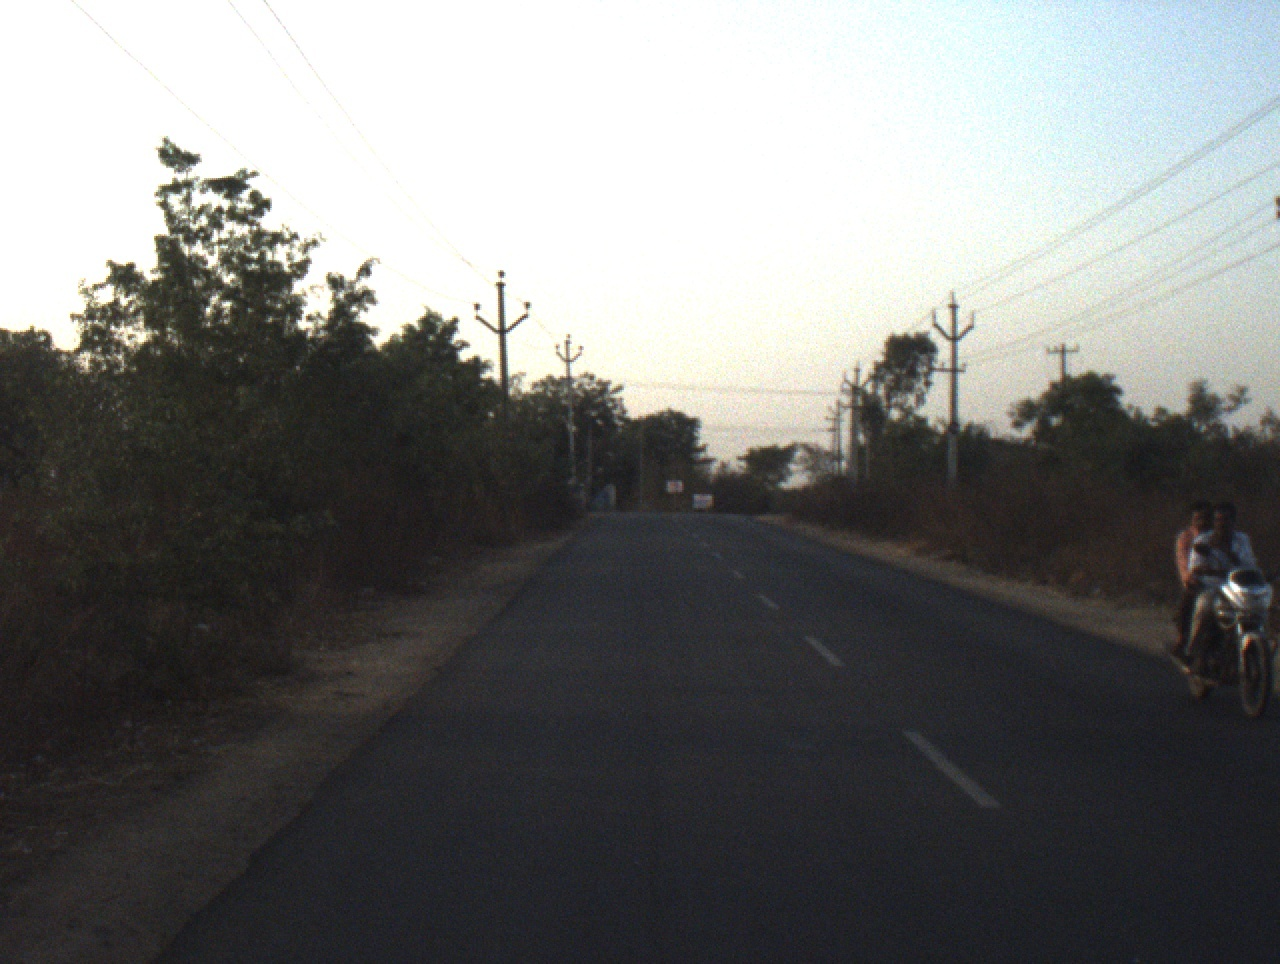motorcycle: (1163, 538, 1274, 723)
rider: (1184, 508, 1259, 696), (1172, 502, 1219, 662)
vehicle fallback: (688, 491, 717, 514)
